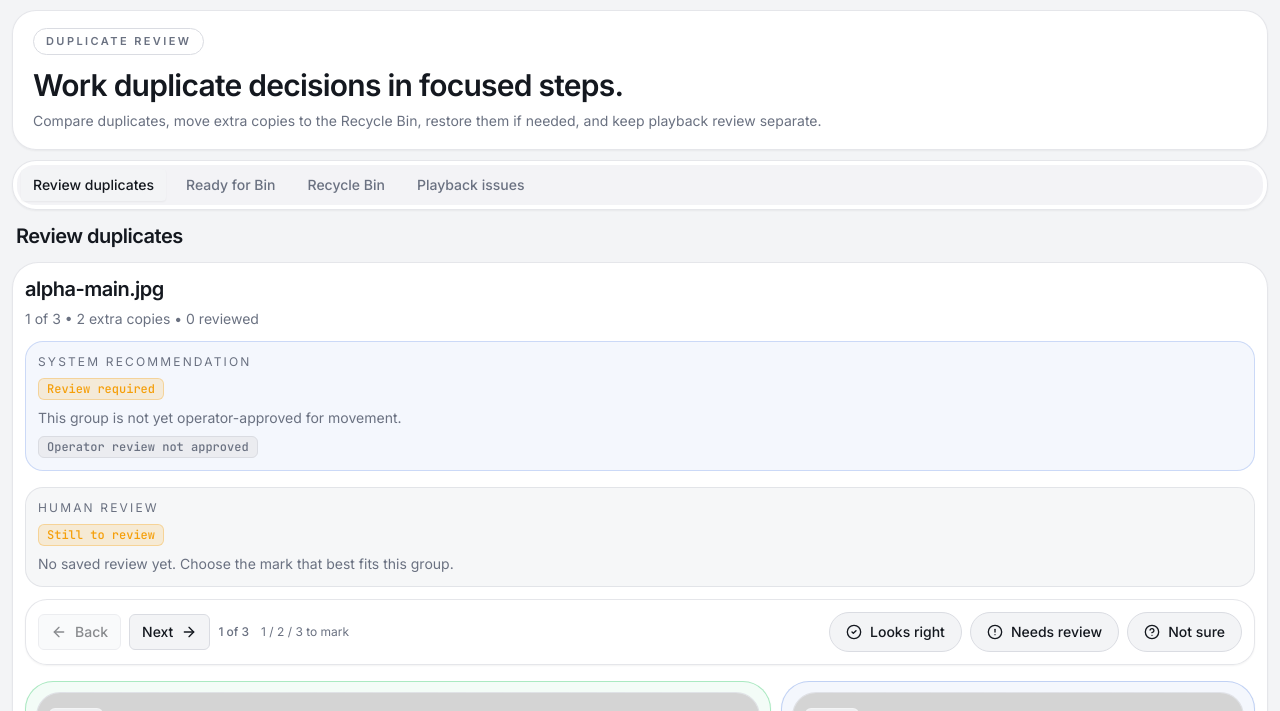
Scenario: DuplicatesPage › uses Back and Next as first-class review navigation controls
The image size is (1280, 711).
Expected: the text with test id "review-group-title" reads "alpha-main.jpg", x1=25 y1=276 x2=164 y2=300
Expected: the button "Back" is disabled, x1=38 y1=614 x2=121 y2=650
Click the button "Next".
click(170, 632)  # box x1=129 y1=614 x2=210 y2=650
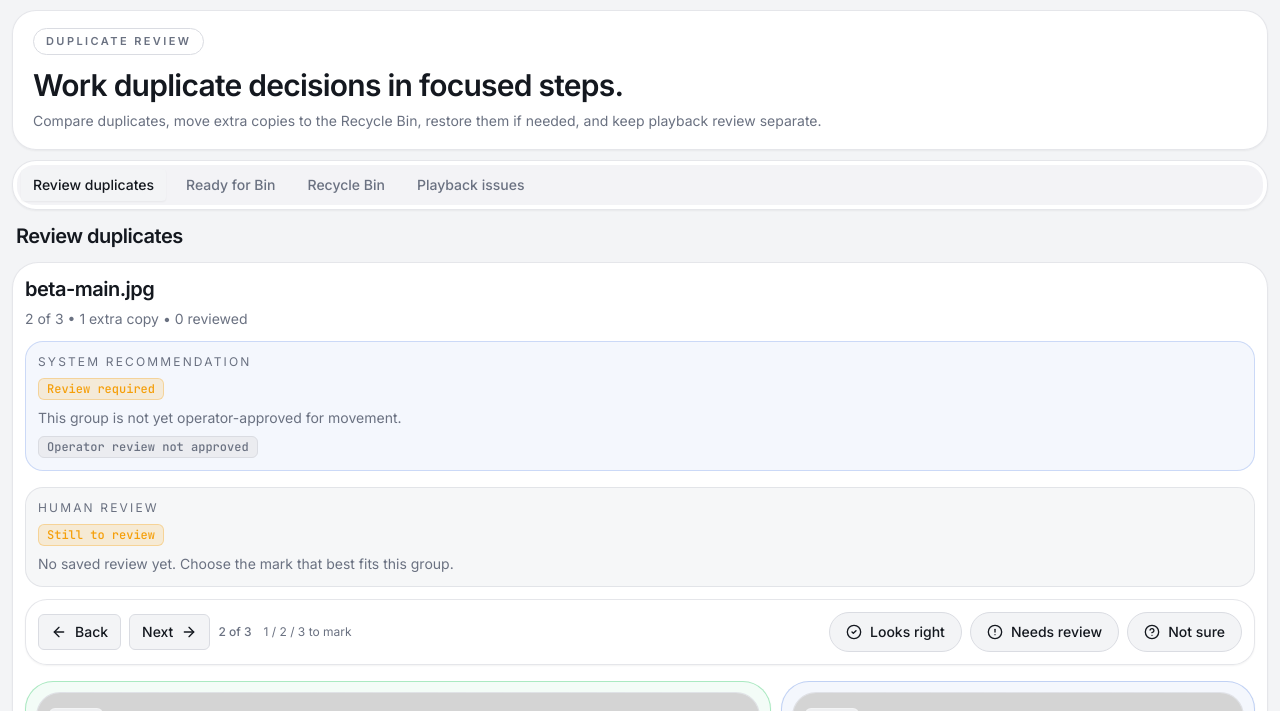
Expected: the text with test id "review-group-title" reads "beta-main.jpg", x1=25 y1=276 x2=154 y2=300
Click the button "Back".
click(80, 632)  # box x1=38 y1=614 x2=121 y2=650
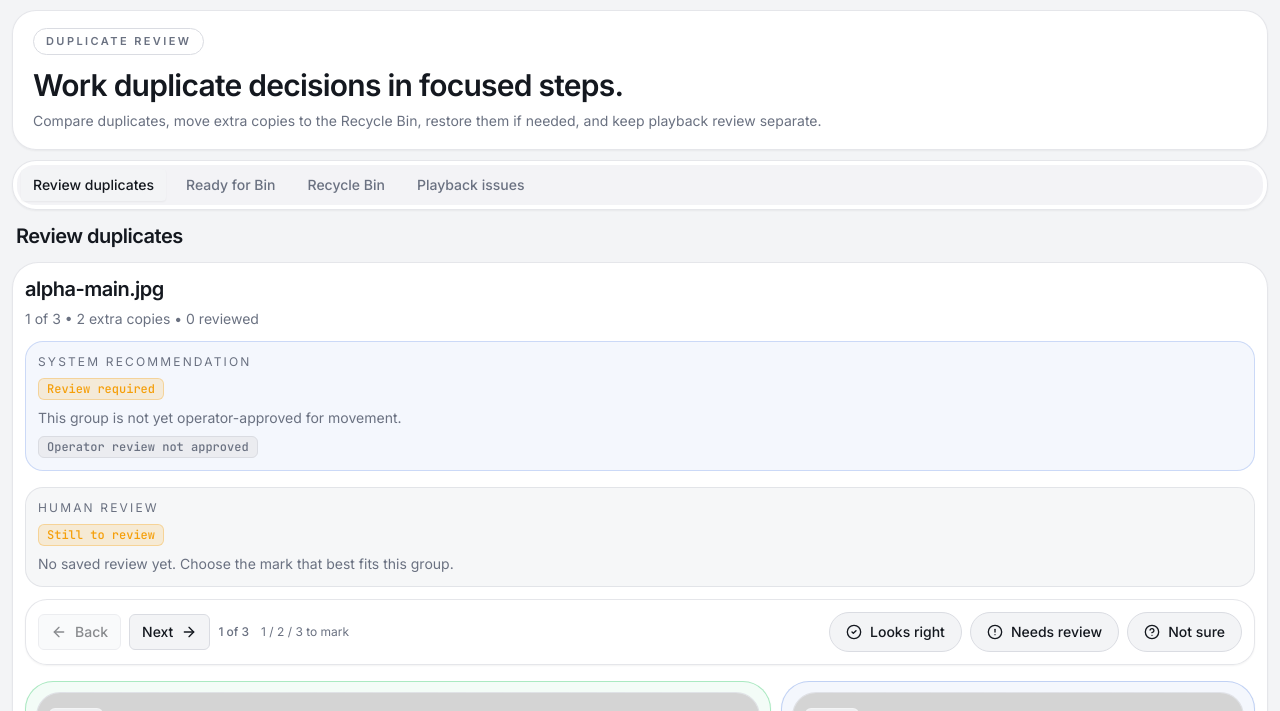
Expected: the text with test id "review-group-title" reads "alpha-main.jpg", x1=25 y1=276 x2=164 y2=300
